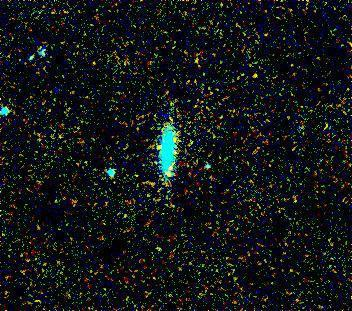star: (147, 128, 177, 158)
